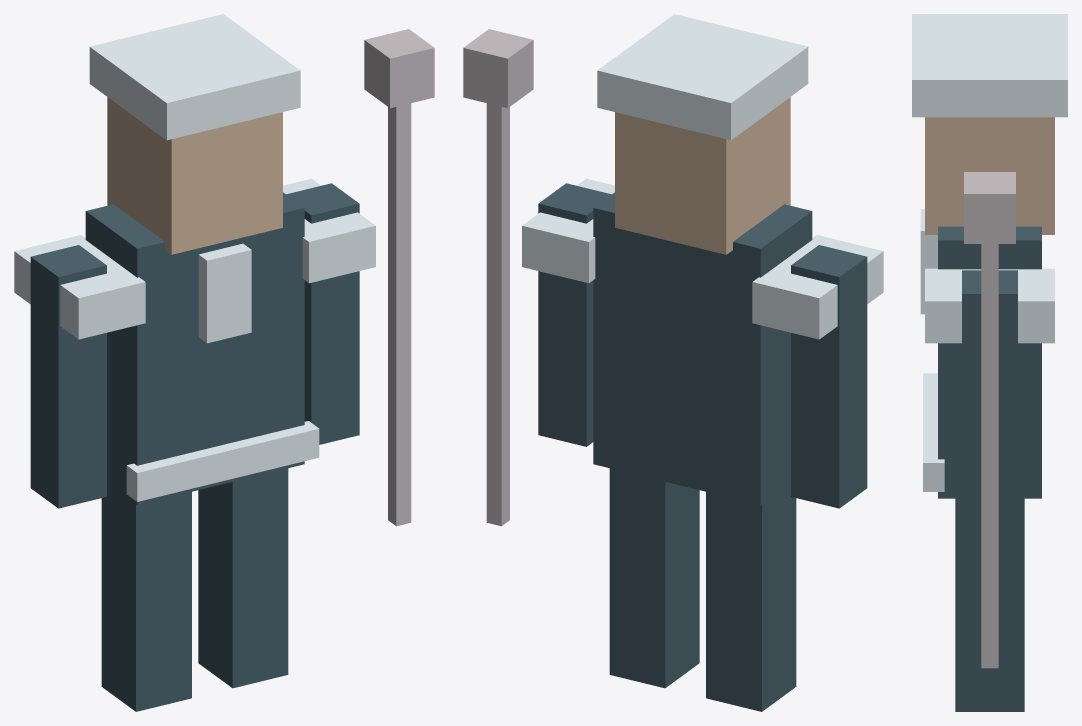
Rendered from 05_pax_stormhush_marshal_from_deep.glb.
3 views of the same model, side by side, from view 1: azimuth 30°, elevation 25°; view 2: azimuth 150°, elevation 25°; view 3: azimuth 270°, elevation 25° (orthographic).
Parts seen in each view (by area): view 1: Pax Stormhush, Marshal from Deep; view 2: Pax Stormhush, Marshal from Deep; view 3: Pax Stormhush, Marshal from Deep.
Boxes of the visible parts, left/top/right/bottom form: Pax Stormhush, Marshal from Deep: left=14, top=14, right=434, bottom=711; Pax Stormhush, Marshal from Deep: left=463, top=14, right=883, bottom=711; Pax Stormhush, Marshal from Deep: left=912, top=14, right=1067, bottom=711.
Size of the model in its own units: 1.06 by 1.67 by 0.3762.
